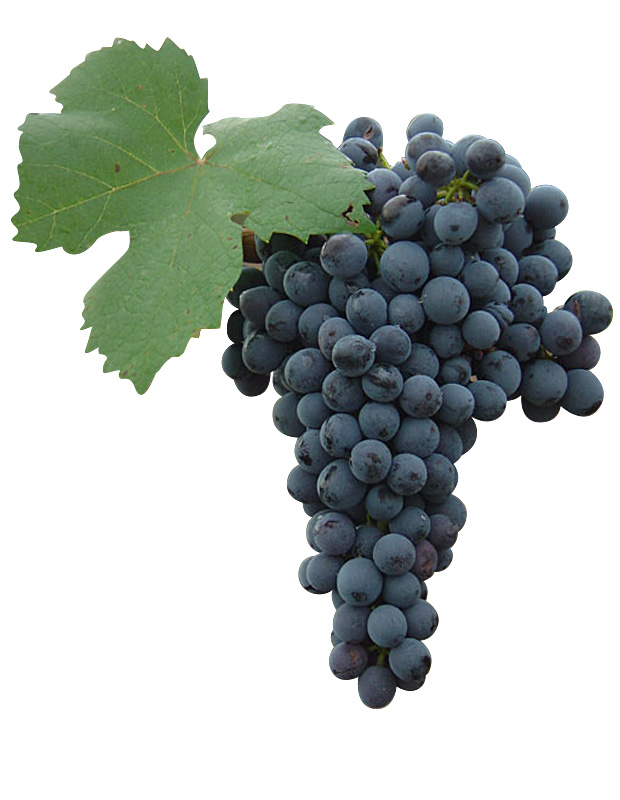Black grapes: (204, 93, 607, 715)
